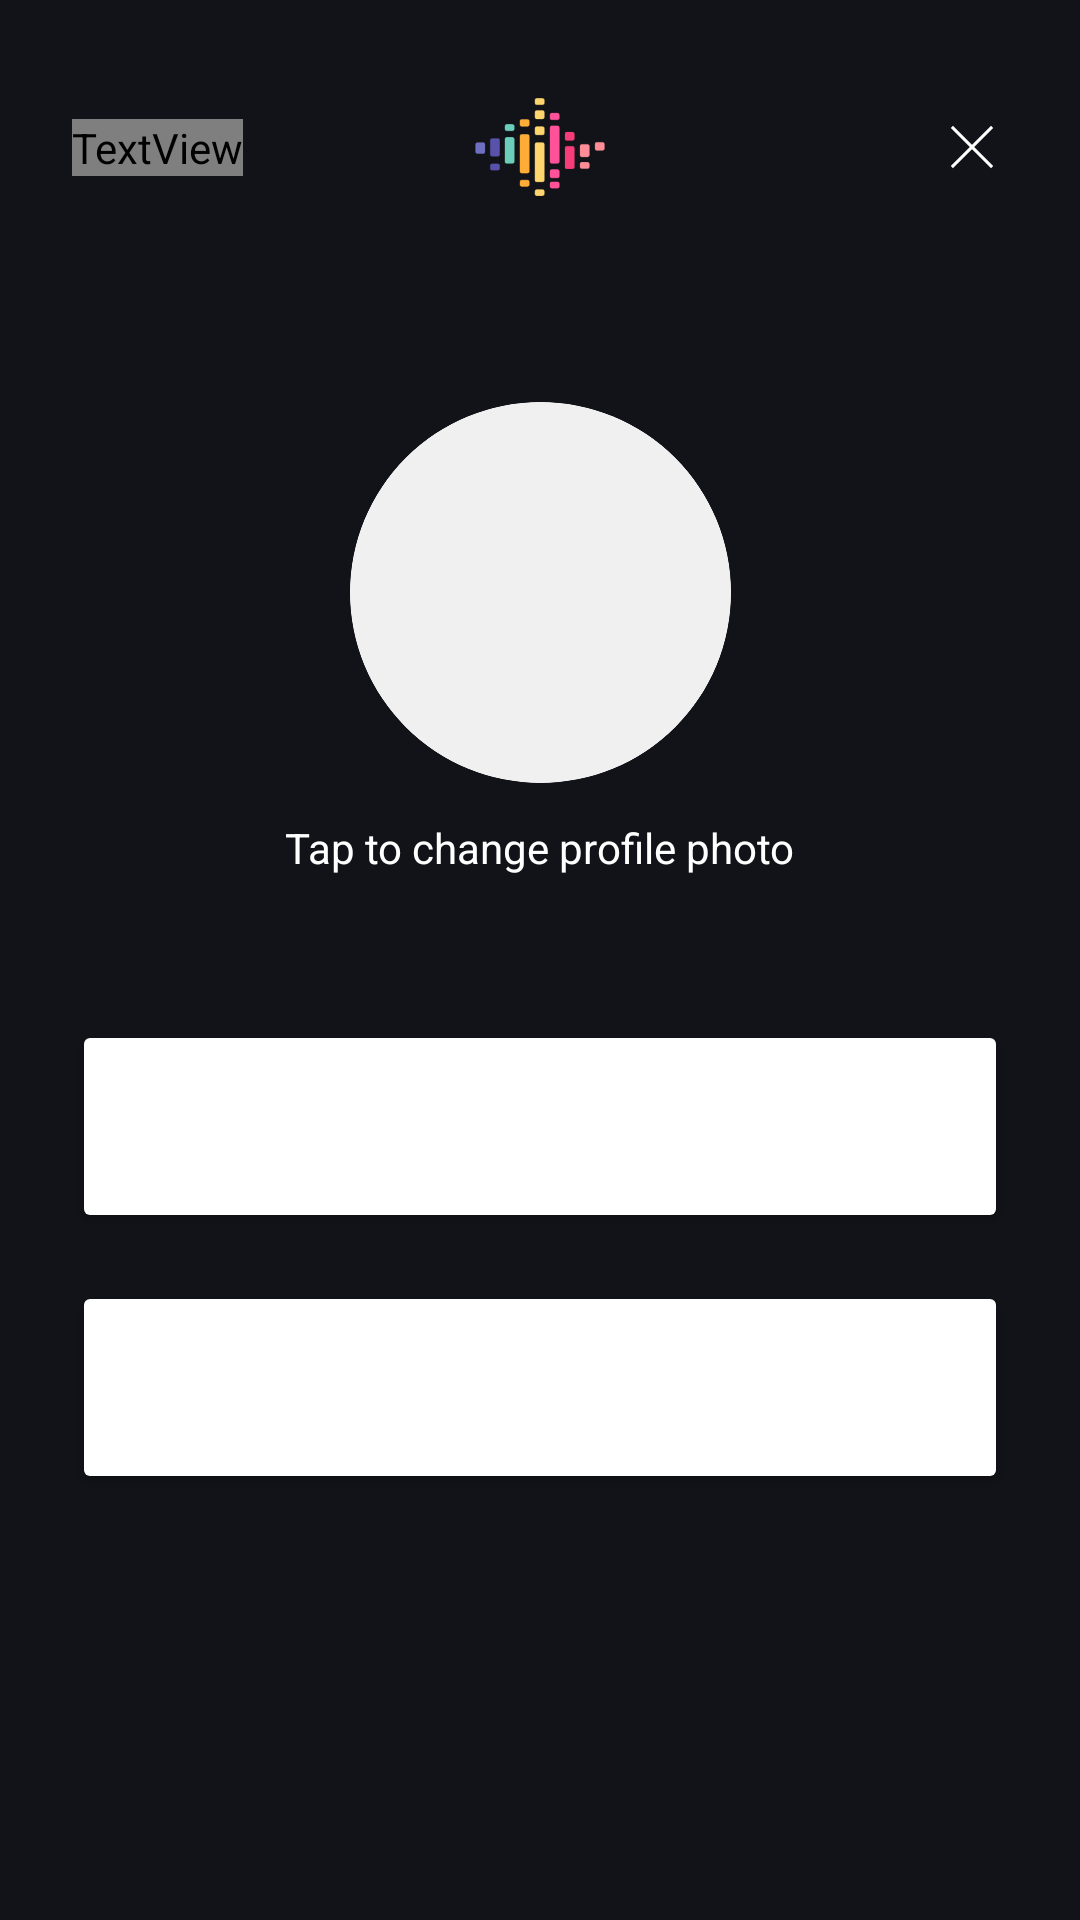

Named icons in this screenshot (1080*1920) and their bounding boxes, (x1, y1, x2, y2):
Close: (951, 126, 993, 168)
